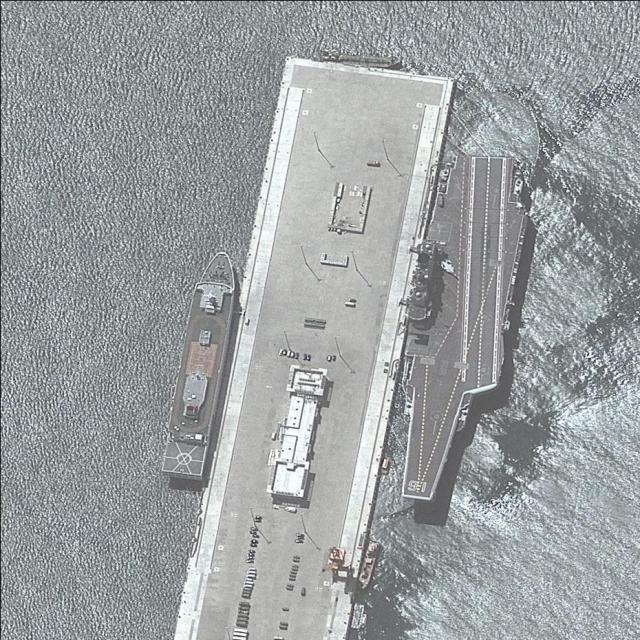Aircraft Carrier: (369, 142, 542, 513)
Other Warship: (160, 245, 246, 484)
